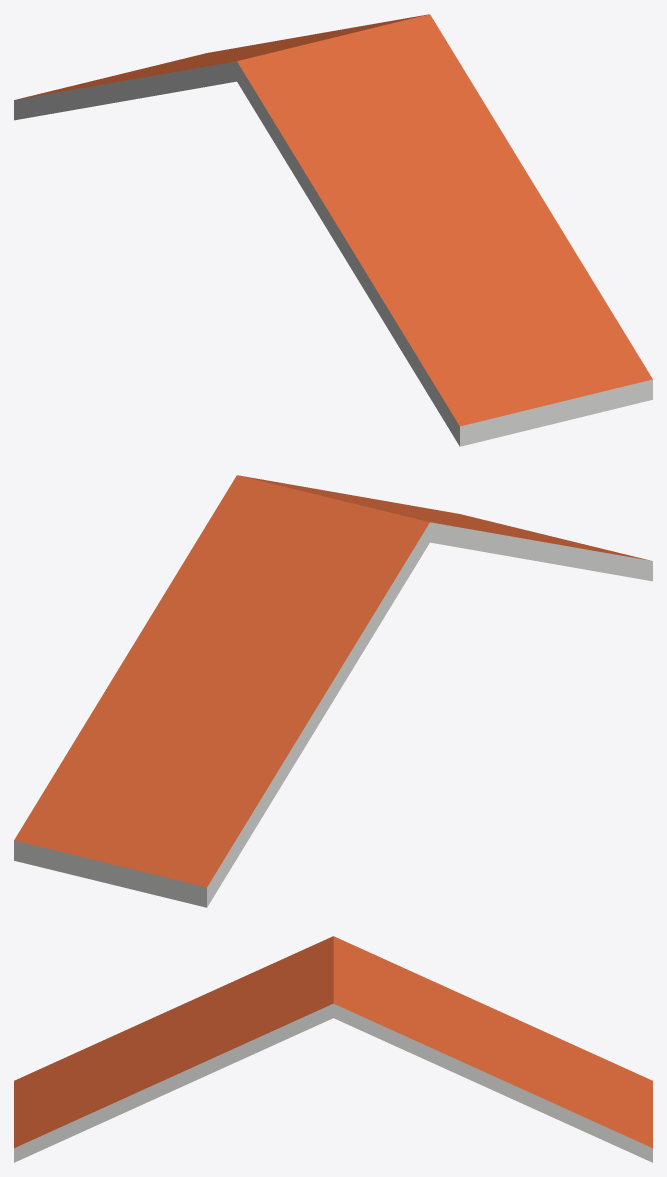
Rendered from telhado_duas_aguas_v4_i50_1m.glb.
3 renders of one model, top to bottom at view 1: azimuth 30°, elevation 25°; view 2: azimuth 150°, elevation 25°; view 3: azimuth 270°, elevation 25°, orthographic. The views are drawn at different scales.
Visible parts, largest first — view 1: telhado_duas_aguas_v4_i50_1m; view 2: telhado_duas_aguas_v4_i50_1m; view 3: telhado_duas_aguas_v4_i50_1m.
Part boxes in pixels (<box>): telhado_duas_aguas_v4_i50_1m: <box>14,14,652,446</box>; telhado_duas_aguas_v4_i50_1m: <box>14,475,652,907</box>; telhado_duas_aguas_v4_i50_1m: <box>14,936,652,1162</box>.
Bounding box in the file's own units: 1 × 1.1 × 4.
